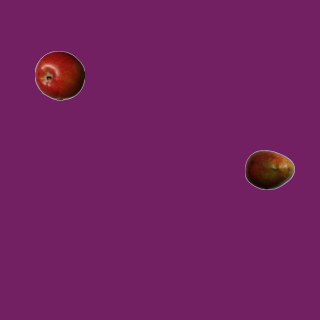Apple Braeburn: (34, 50, 84, 100)
Mango Red: (244, 144, 294, 194)
